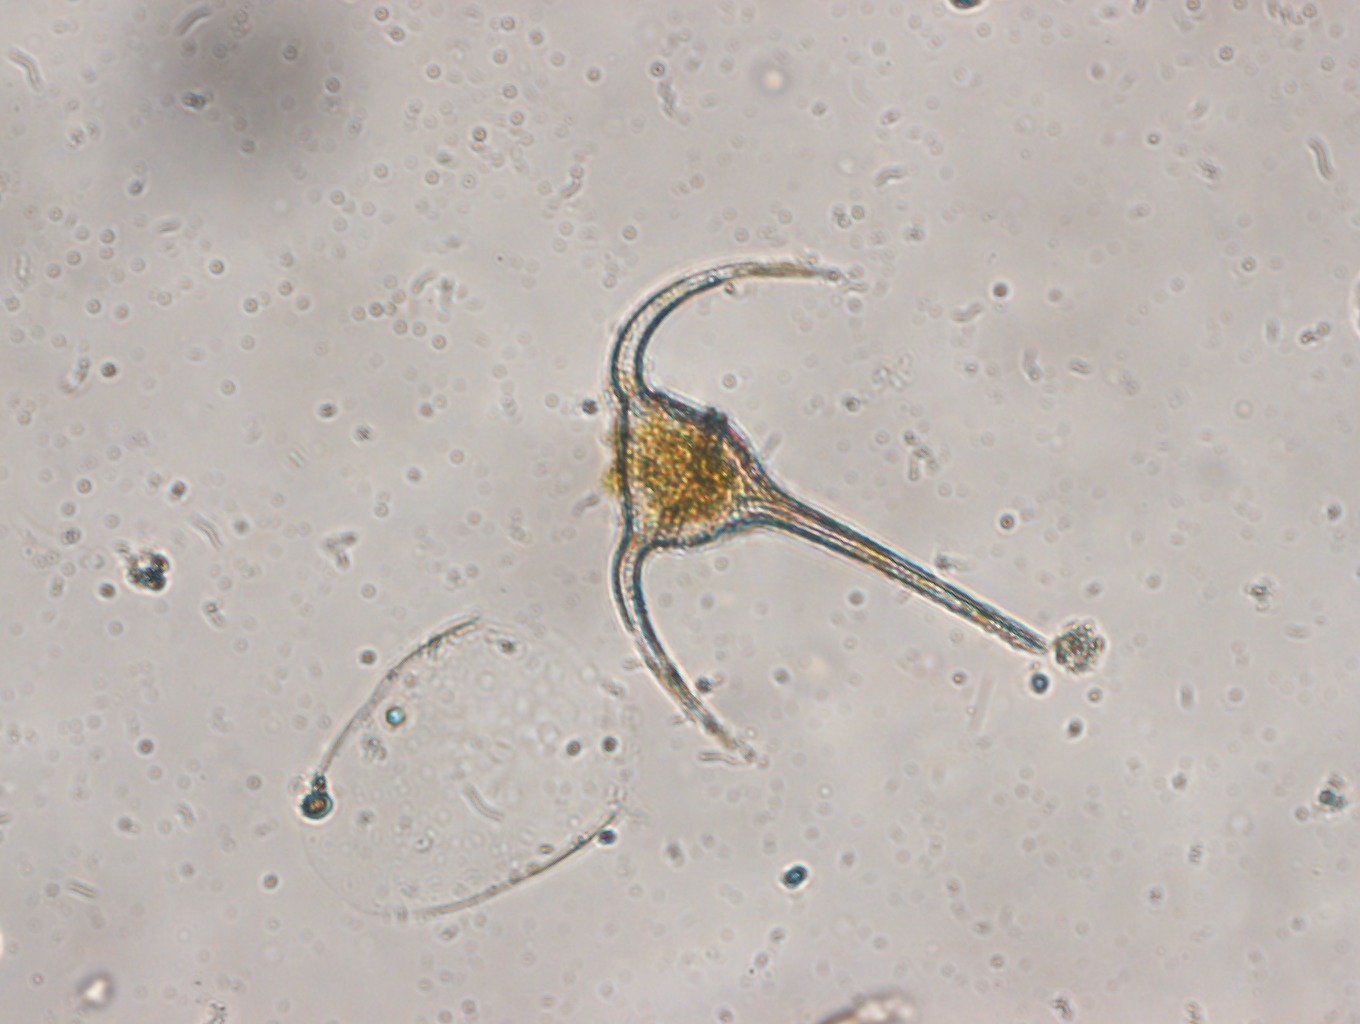ceratium trichoceros: (595, 218, 1049, 752)
